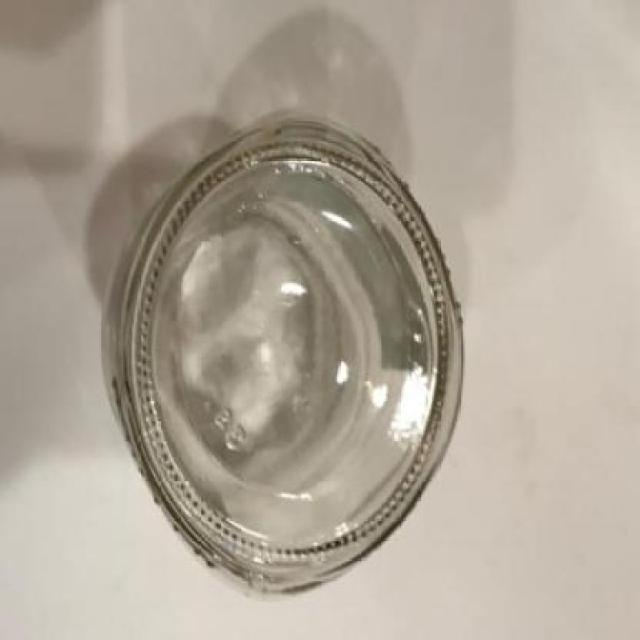GLASS: (105, 126, 466, 600)
